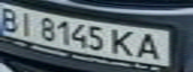1: (54, 18, 72, 46)
4: (69, 21, 90, 50)
5: (87, 24, 109, 53)
8: (36, 15, 57, 43)
A: (133, 30, 169, 61)
B: (0, 4, 24, 34)
I: (12, 9, 39, 37)
K: (109, 27, 139, 57)
